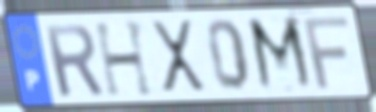0: (205, 16, 253, 96)
F: (300, 14, 351, 91)
H: (91, 18, 157, 100)
M: (244, 13, 318, 95)
R: (41, 22, 107, 100)
X: (148, 17, 210, 96)
